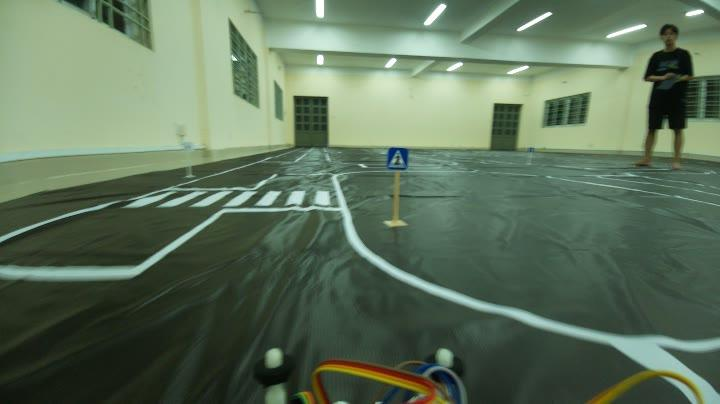crosswalk: (380, 143, 410, 178)
